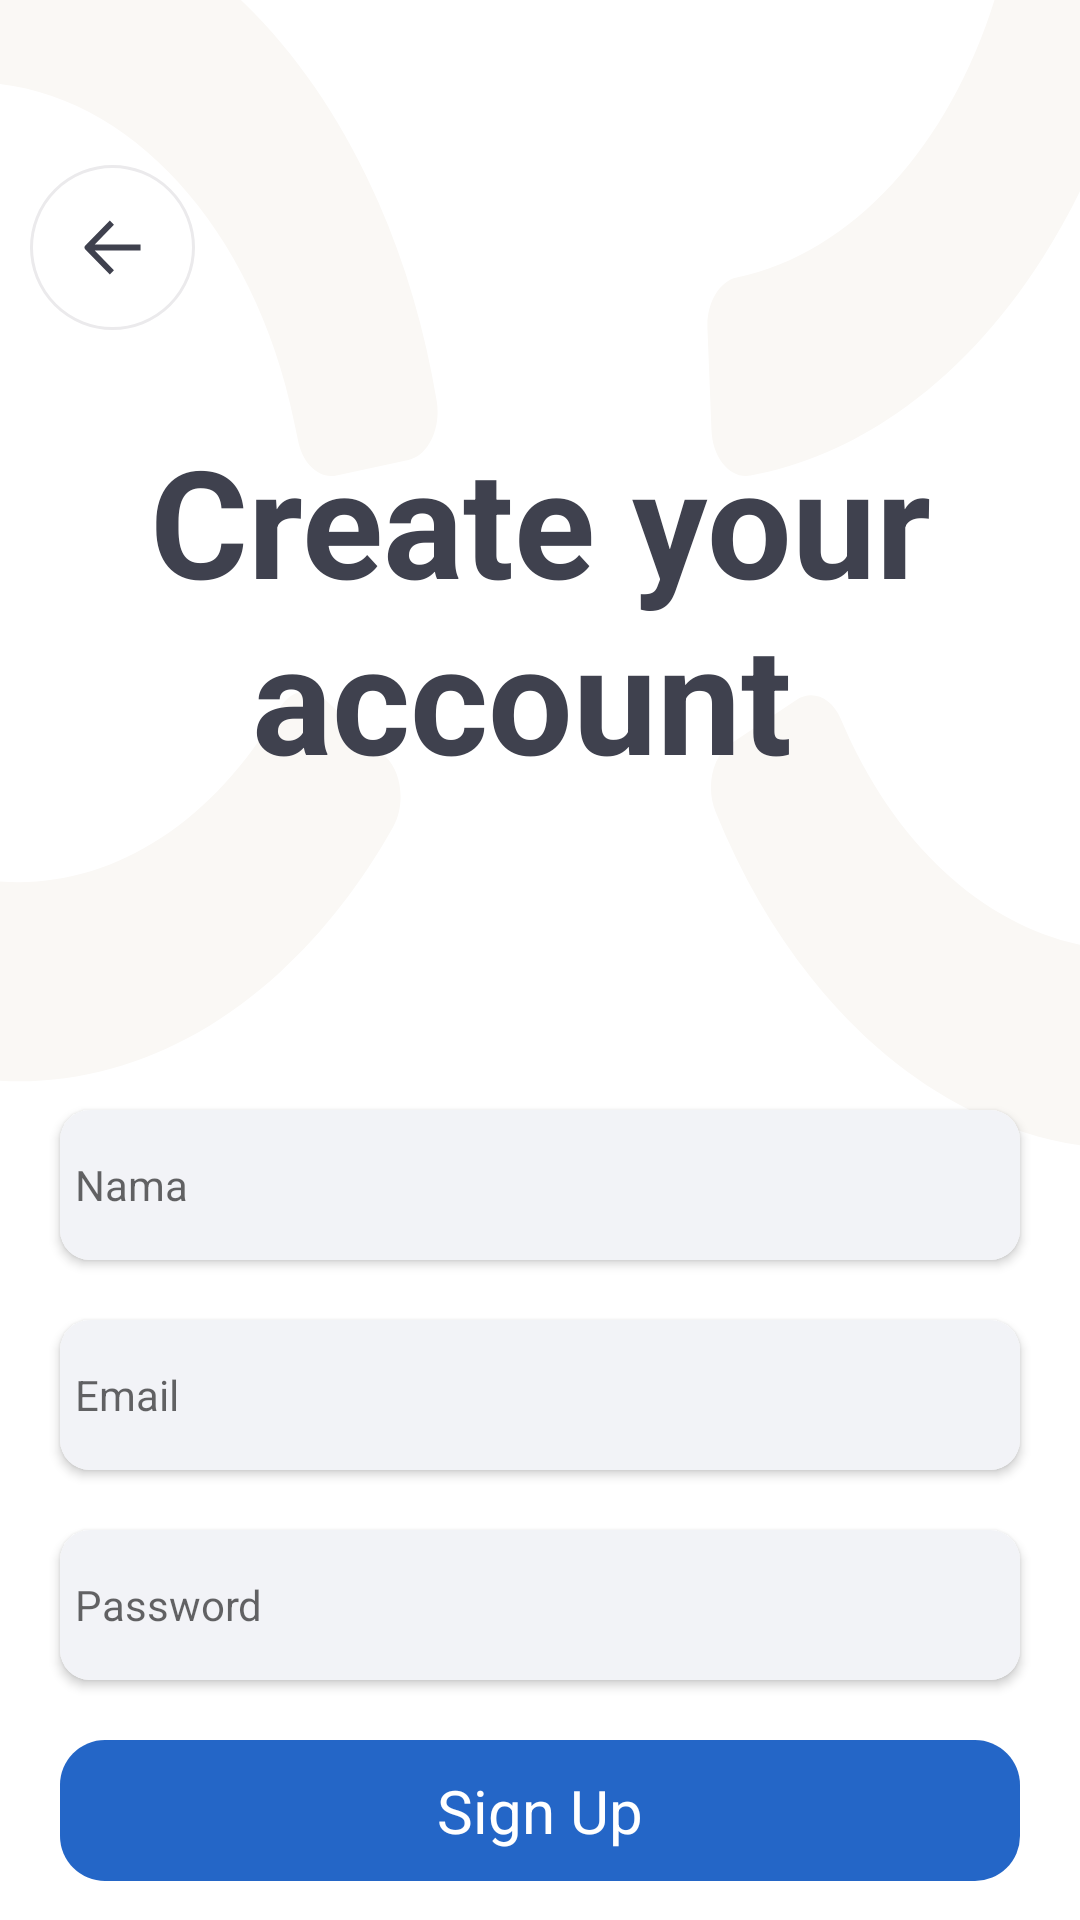

Icon click points for this 1080px×1920px phone screenshot, format point (x, y):
back: point (112, 247)
